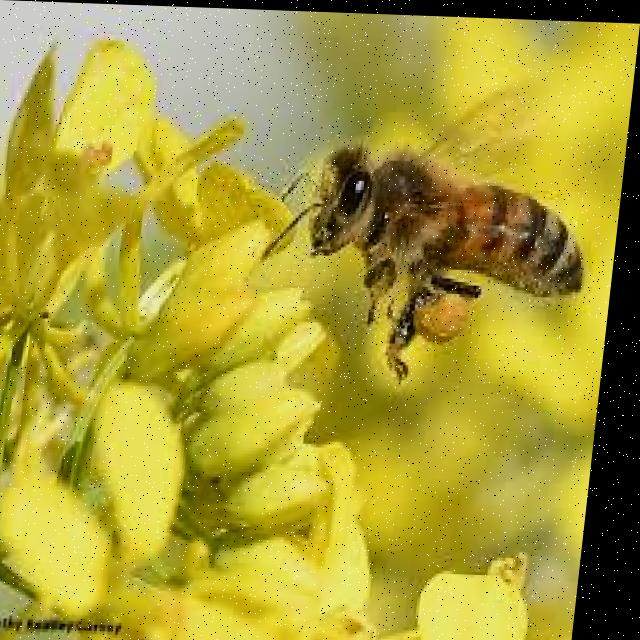Apis-mellifera-scutellata: (242, 63, 615, 394)
